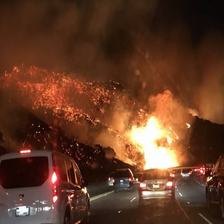fire: (103, 91, 185, 169), (15, 64, 88, 123)
